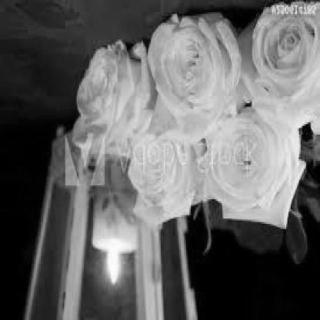Fire: (96, 240, 127, 290)
